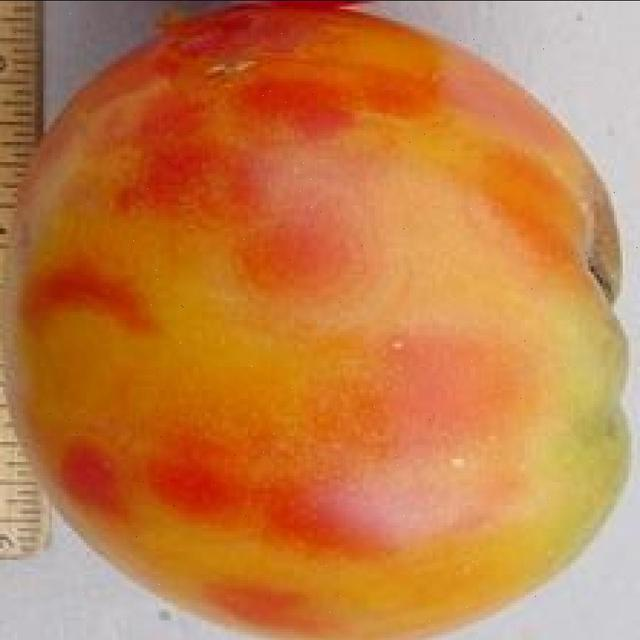Spotted wilt Virus Fruit: (10, 4, 425, 427)
